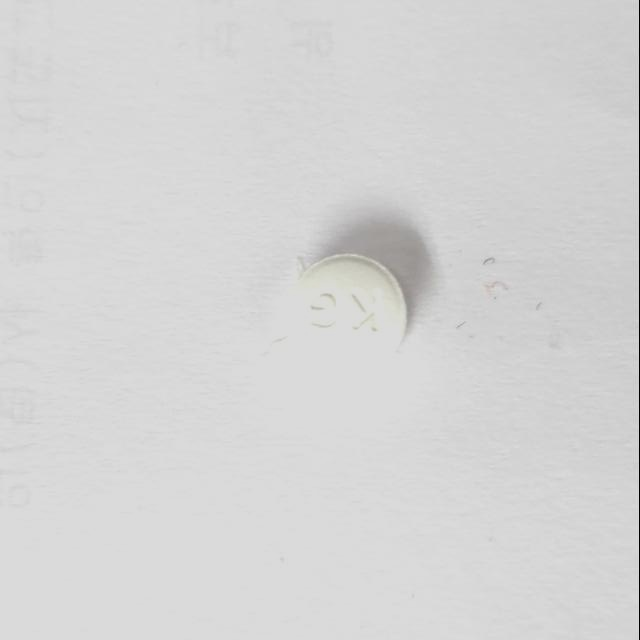pill: (288, 246, 412, 381)
